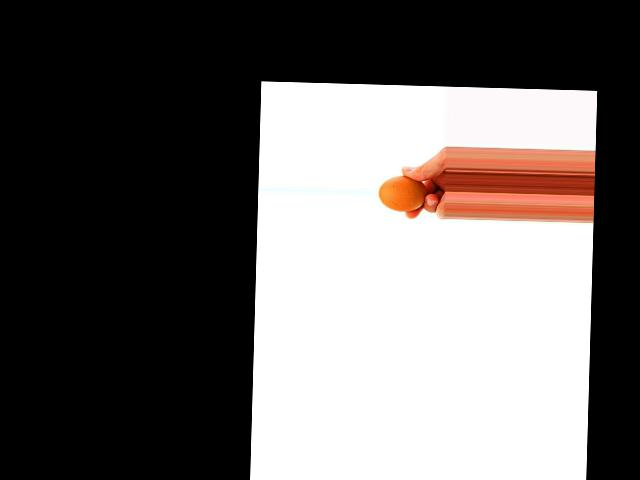egg: (378, 175, 426, 212)
